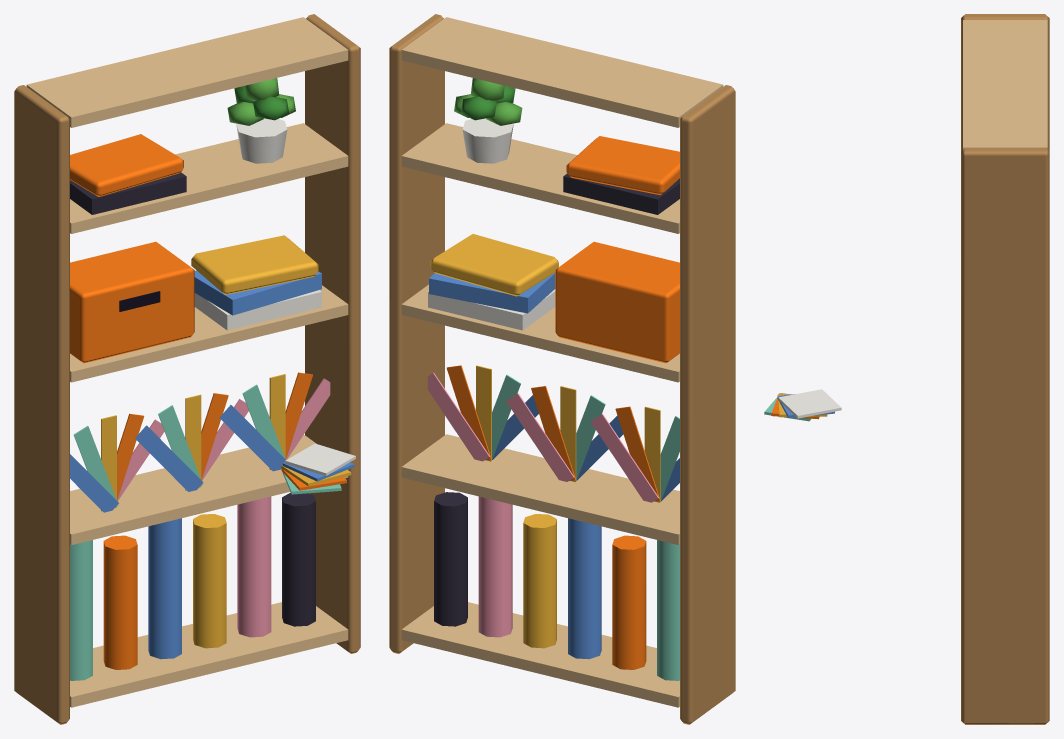
The model's file is station_intake_ausstattung_2_3.glb.
The picture shows the model from 3 angles, left to right: view 1: azimuth 30°, elevation 25°; view 2: azimuth 150°, elevation 25°; view 3: azimuth 270°, elevation 25°; orthographic projection. The views are drawn at different scales.
Visible parts, largest first — view 1: station_intake_ausstattung_2_3; view 2: station_intake_ausstattung_2_3; view 3: station_intake_ausstattung_2_3.
Boxes of the visible parts, <box> form: station_intake_ausstattung_2_3: <box>14,14,360,724</box>; station_intake_ausstattung_2_3: <box>389,14,735,724</box>; station_intake_ausstattung_2_3: <box>764,14,1049,724</box>.
Bounding box in the file's own units: 0.9 × 1.72 × 0.7733.
